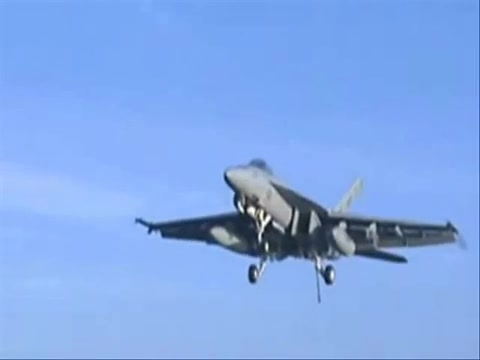aeroplane: (135, 158, 471, 306)
